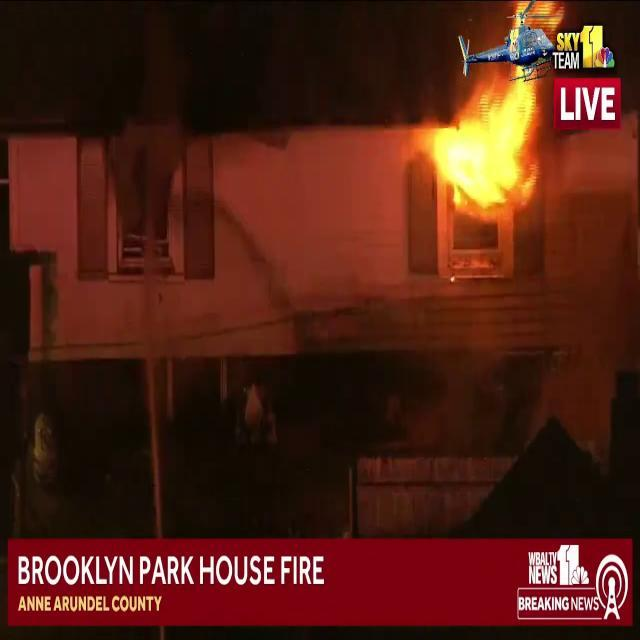Fire: (412, 0, 560, 212)
